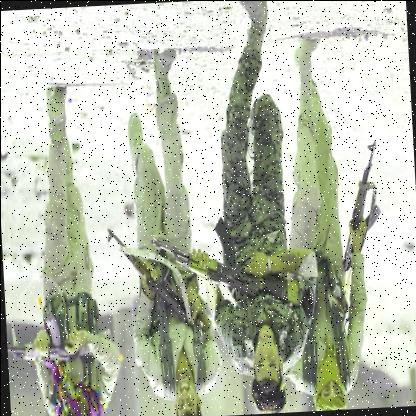rifle: (145, 215, 302, 321), (107, 222, 192, 328), (332, 136, 391, 282), (5, 297, 105, 368)
